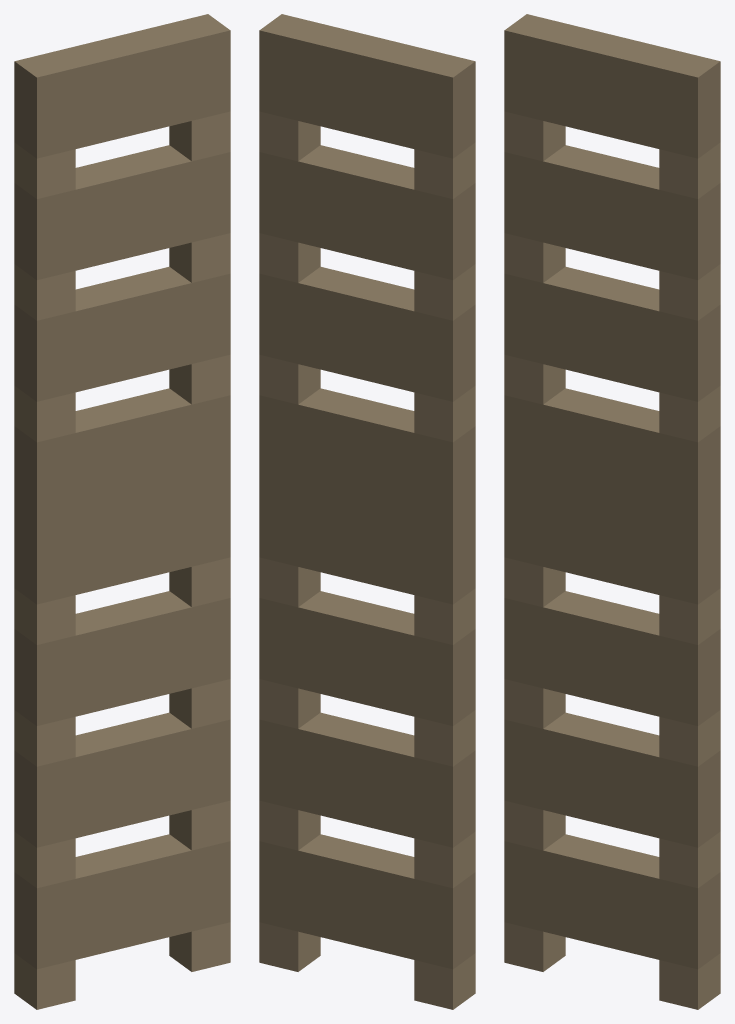
Rendered from escalera_mano_02.glb.
3 views of the same model, side by side, from view 1: azimuth 30°, elevation 25°; view 2: azimuth 150°, elevation 25°; view 3: azimuth 330°, elevation 25° (orthographic).
Parts seen in each view (by area): view 1: escalera_mano_02; view 2: escalera_mano_02; view 3: escalera_mano_02.
Boxes of the visible parts, x1,y1,x2,y2 form: escalera_mano_02: (14, 14, 230, 1009); escalera_mano_02: (259, 14, 475, 1009); escalera_mano_02: (504, 14, 720, 1009).
Bounding box in the file's own units: 0.5 × 2.3 × 0.1.
